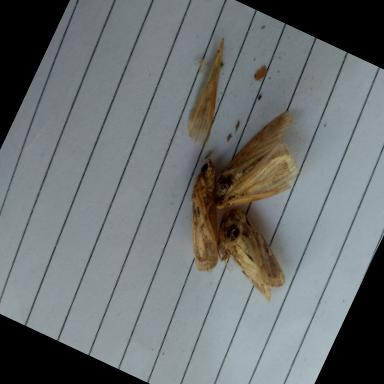abw: (204, 96, 320, 234), (160, 158, 255, 277), (198, 205, 304, 306)
